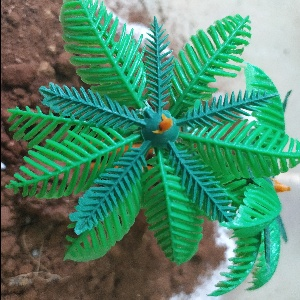plant: (23, 3, 300, 272)
